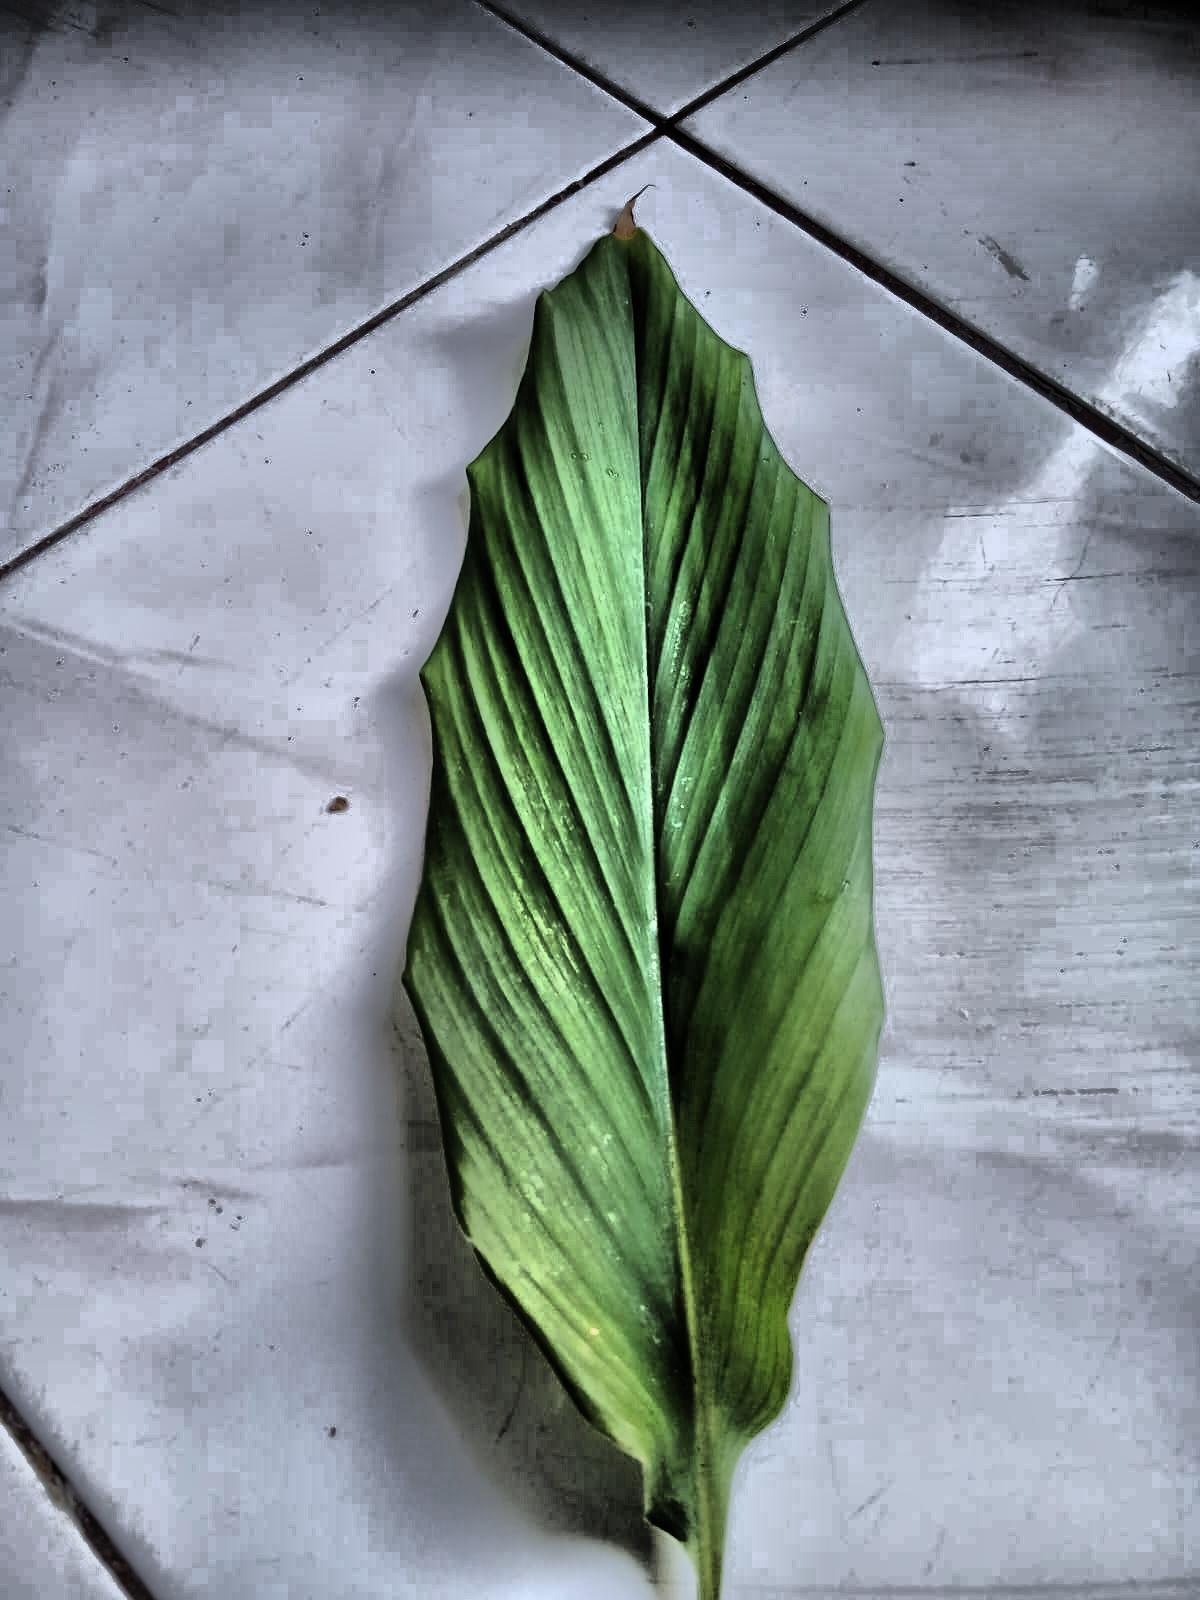daun kunyit: (405, 212, 884, 1599)
